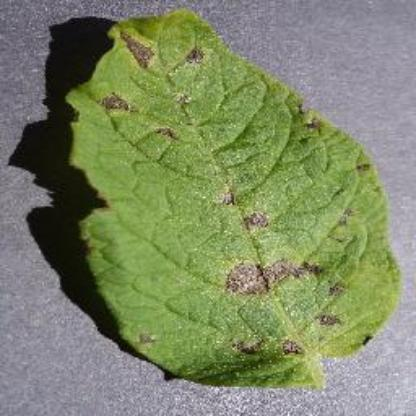Early-Blight: (61, 7, 408, 393)
